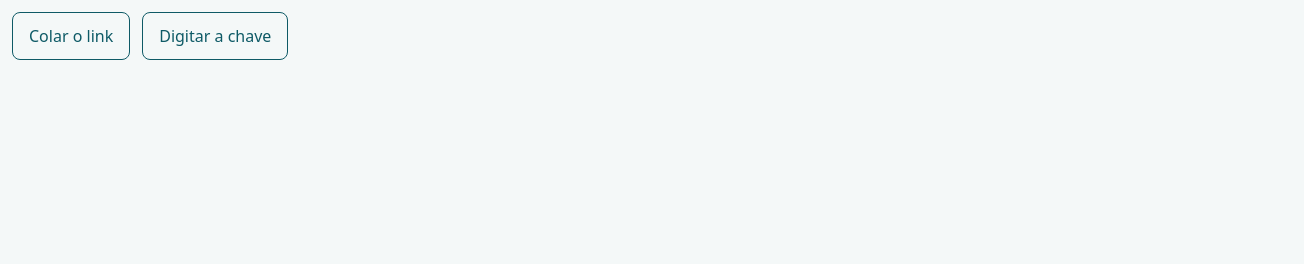
Test case: ReceiptKeyStep link error › saysWhenTheLinkIsNotAReceipt
Click the button "Colar o link".
click(71, 36)  # box [12,12,130,60]
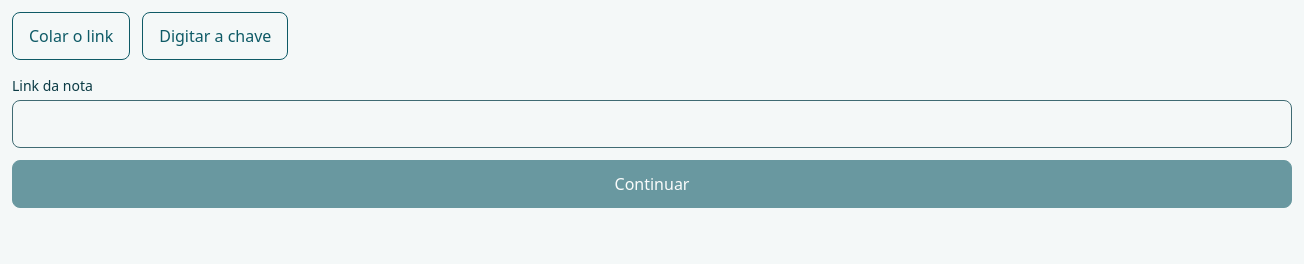
Type "https://example.test/" into the field labelled "Link da nota".
click(652, 124); type("https://example.test/")  # box [12,100,1292,148]
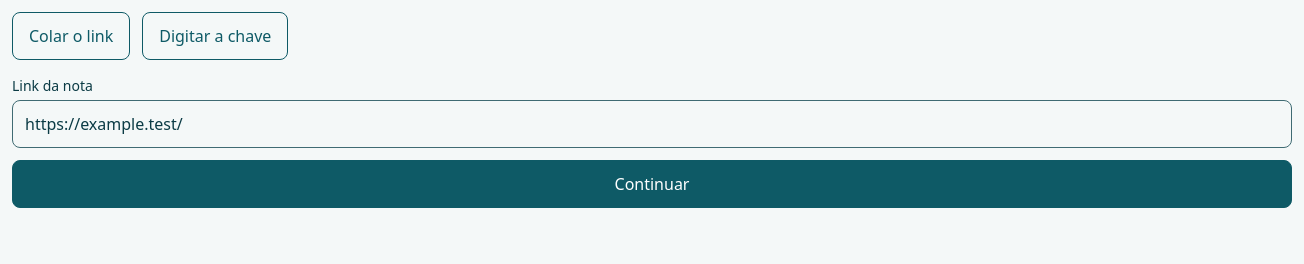
Click the button "Continuar".
click(652, 184)  # box [12,160,1292,208]
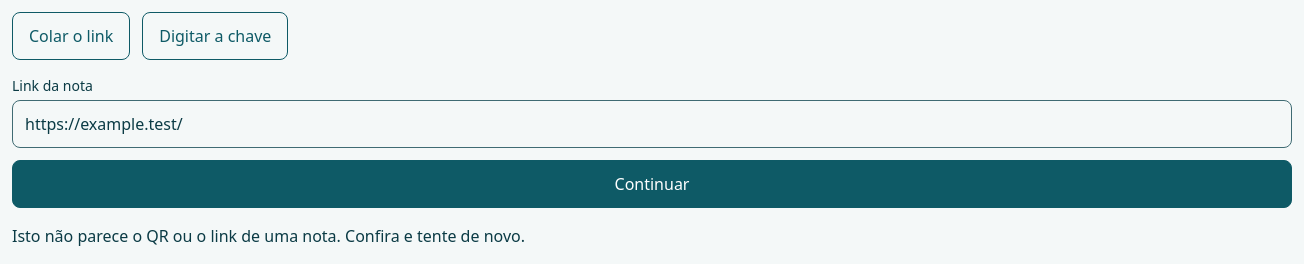
Expected: the text "Isto não parece o QR ou o link de uma nota. Confira e tente de novo." is shown, [12,225,525,247]
